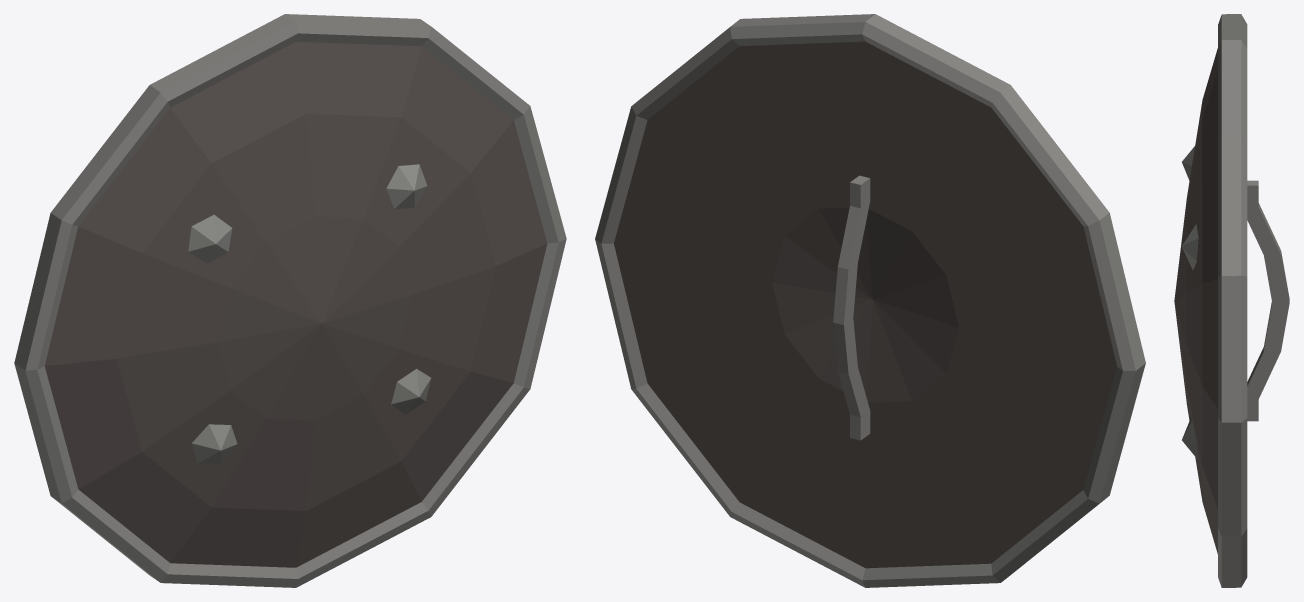
The model's file is SM_pwe_persia_shield_03.fbx.
The picture shows the model from 3 angles, left to right: view 1: azimuth 30°, elevation 25°; view 2: azimuth 150°, elevation 25°; view 3: azimuth 270°, elevation 25°; orthographic projection. The views are drawn at different scales.
Parts seen in each view (by area): view 1: SM_pwe_persia_shield_03; view 2: SM_pwe_persia_shield_03; view 3: SM_pwe_persia_shield_03.
Boxes of the visible parts, x1,y1,x2,y2 form: SM_pwe_persia_shield_03: [14, 14, 566, 587]; SM_pwe_persia_shield_03: [595, 14, 1145, 587]; SM_pwe_persia_shield_03: [1174, 14, 1289, 587].
Size of the model in its own units: 70.51 by 70.44 by 14.1.
